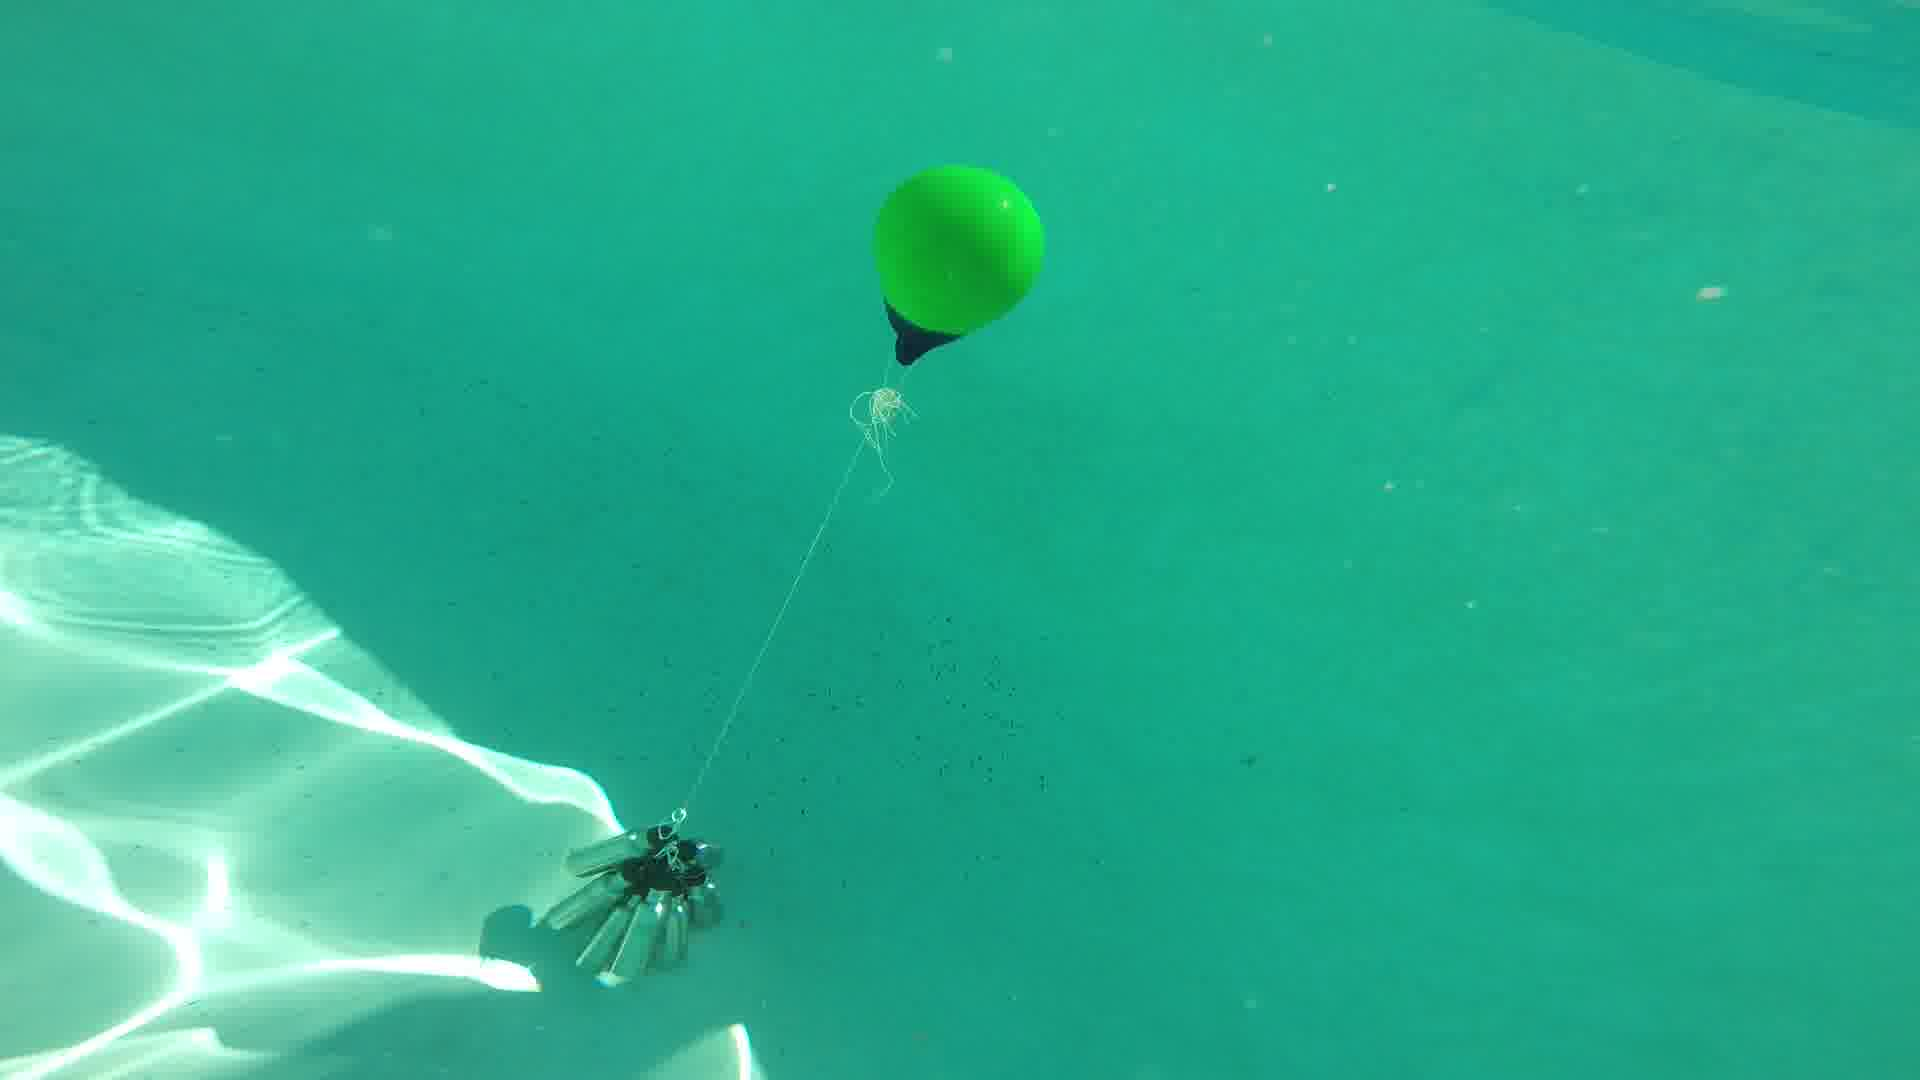yellow_buoy: (872, 164, 1047, 367)
